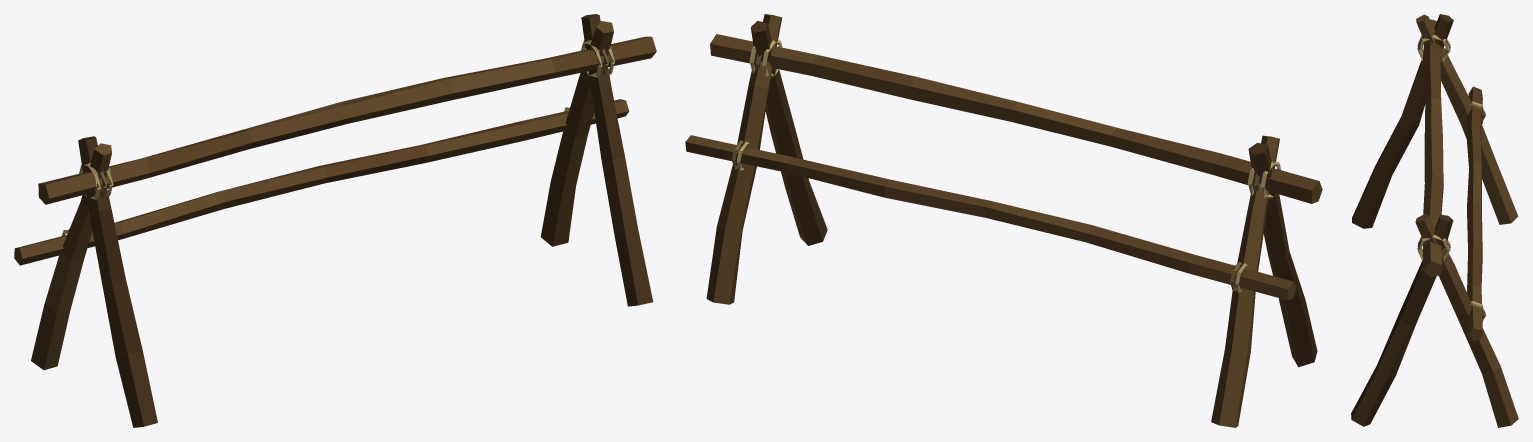
The model's file is drying_rack_2_finito.glb.
3 renders of one model, left to right at view 1: azimuth 30°, elevation 25°; view 2: azimuth 150°, elevation 25°; view 3: azimuth 270°, elevation 25°, orthographic. The views are drawn at different scales.
Parts seen in each view (by area): view 1: drying_rack_2_finito; view 2: drying_rack_2_finito; view 3: drying_rack_2_finito.
Part boxes in pixels (x1,y1,x2,y2): drying_rack_2_finito: [14, 14, 656, 427]; drying_rack_2_finito: [685, 14, 1322, 427]; drying_rack_2_finito: [1351, 14, 1518, 427].
Bounding box in the file's own units: 5.81 × 2.36 × 1.7.
